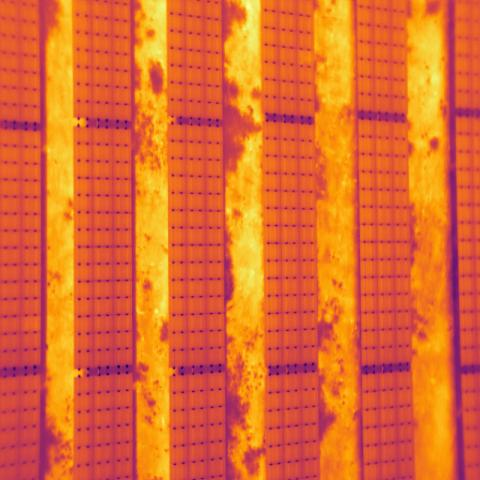fault: (296, 49, 316, 68)
